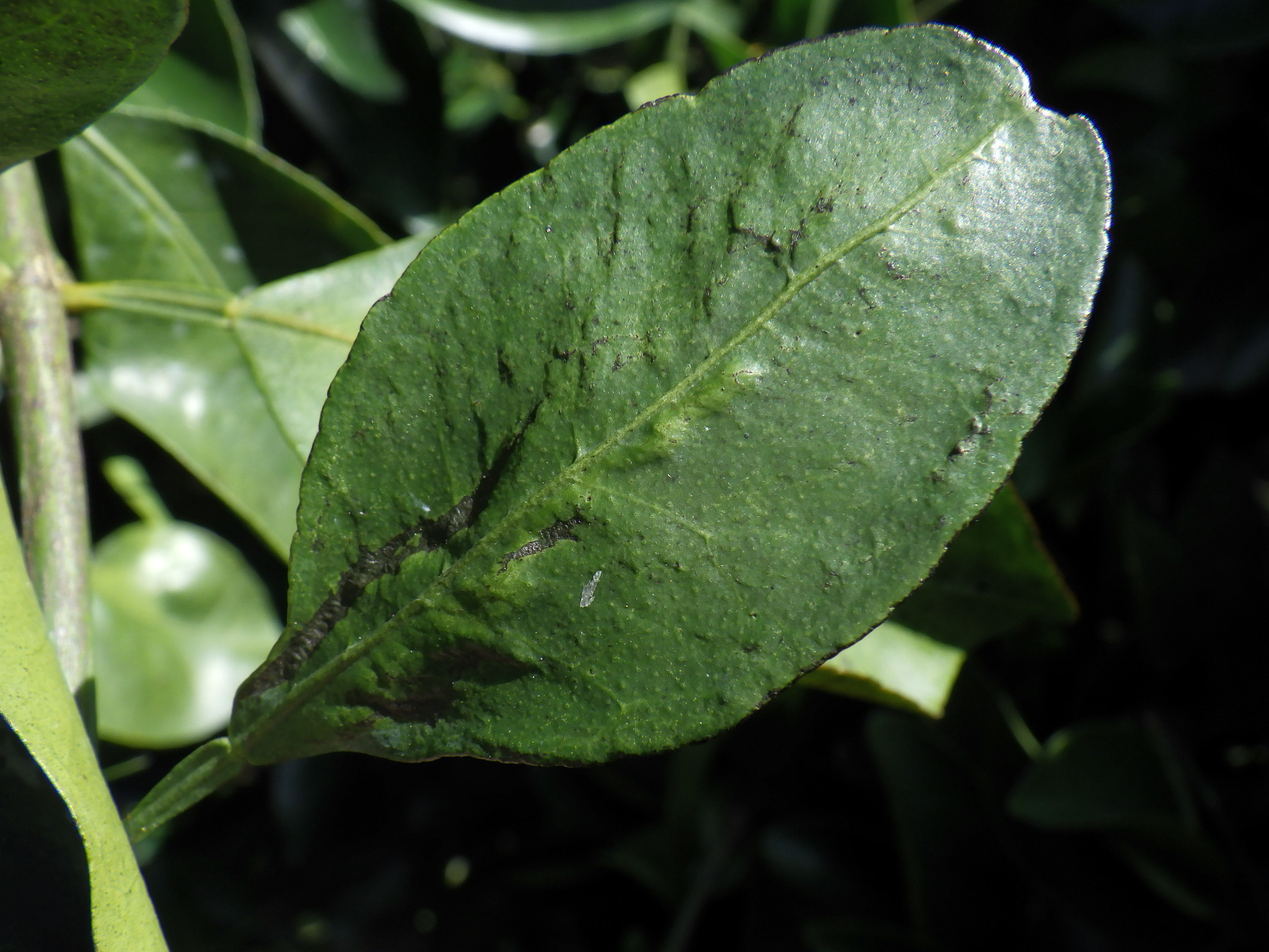Thrips_Damage: (248, 436, 585, 687)
